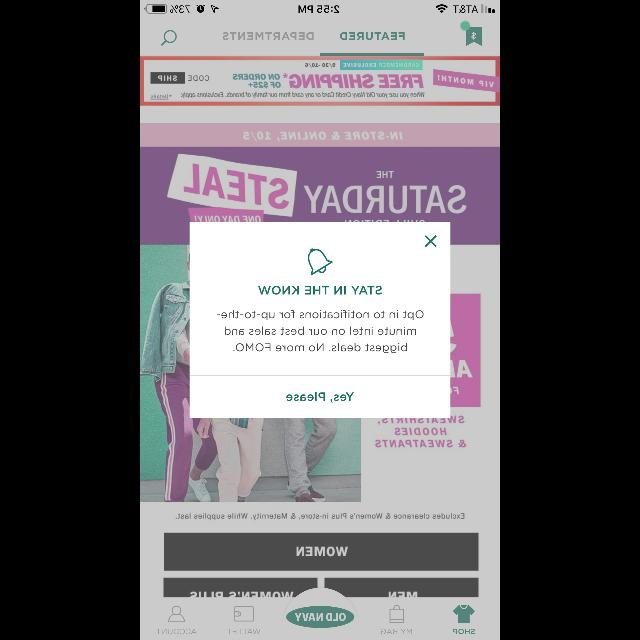icon: (308, 248, 332, 276), (424, 235, 436, 247)
panel: (190, 222, 450, 418)
text: (217, 311, 423, 354), (258, 286, 382, 294)
textbutton: (190, 376, 450, 418)
uppertaskbar: (140, 0, 500, 14)
